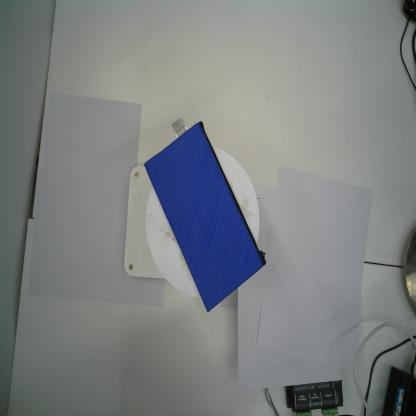Stationery: (143, 117, 268, 314)
